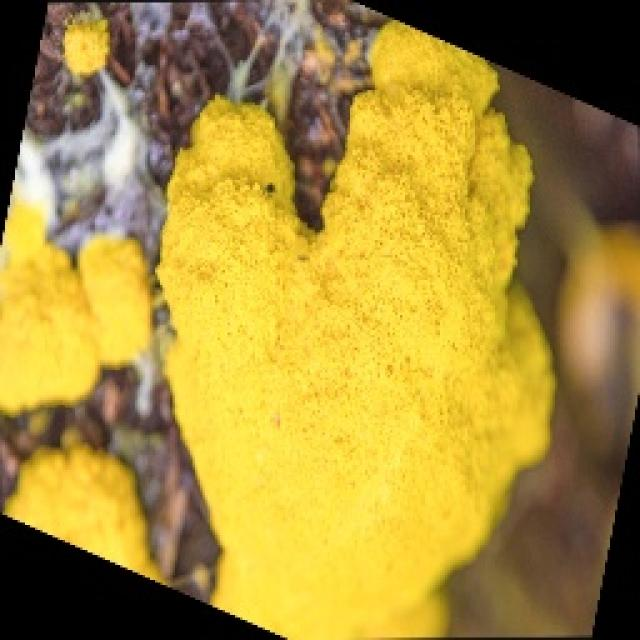Dog_vomit_slime_mold: (43, 49, 568, 611)
